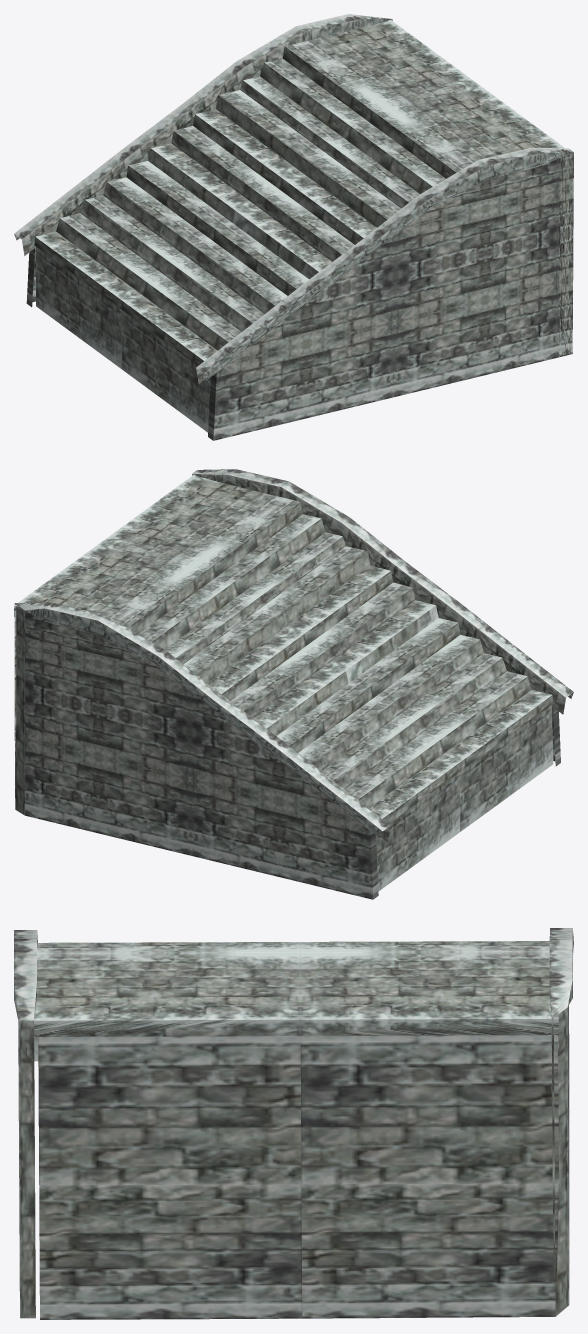
The model's file is S_Build_Snowland105.FBX.
The picture shows the model from 3 angles, top to bottom: view 1: azimuth 30°, elevation 25°; view 2: azimuth 150°, elevation 25°; view 3: azimuth 270°, elevation 25°; orthographic projection. The views are drawn at different scales.
Visible parts, largest first — view 1: S_Build_Snowland105; view 2: S_Build_Snowland105; view 3: S_Build_Snowland105.
Part boxes in pixels (bbox=[...]): S_Build_Snowland105: bbox=[14, 14, 573, 440]; S_Build_Snowland105: bbox=[14, 469, 573, 899]; S_Build_Snowland105: bbox=[14, 928, 573, 1319].
Bounding box in the file's own units: 735 × 650 × 406.
